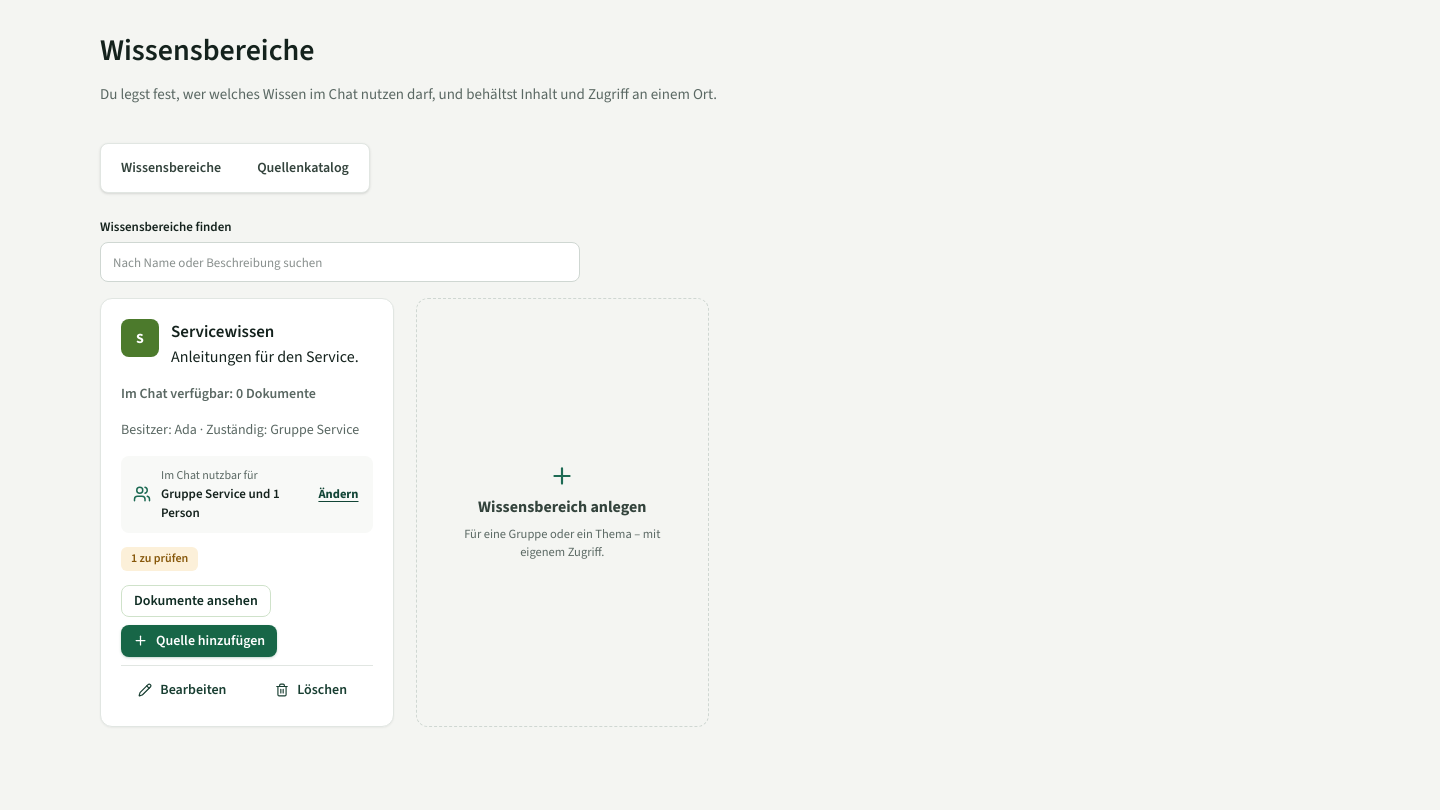
Test: renames a knowledge space through the existing patch contract
Click the button with aria-label "Servicewissen umbenennen": (182, 690) [121, 674, 244, 706]
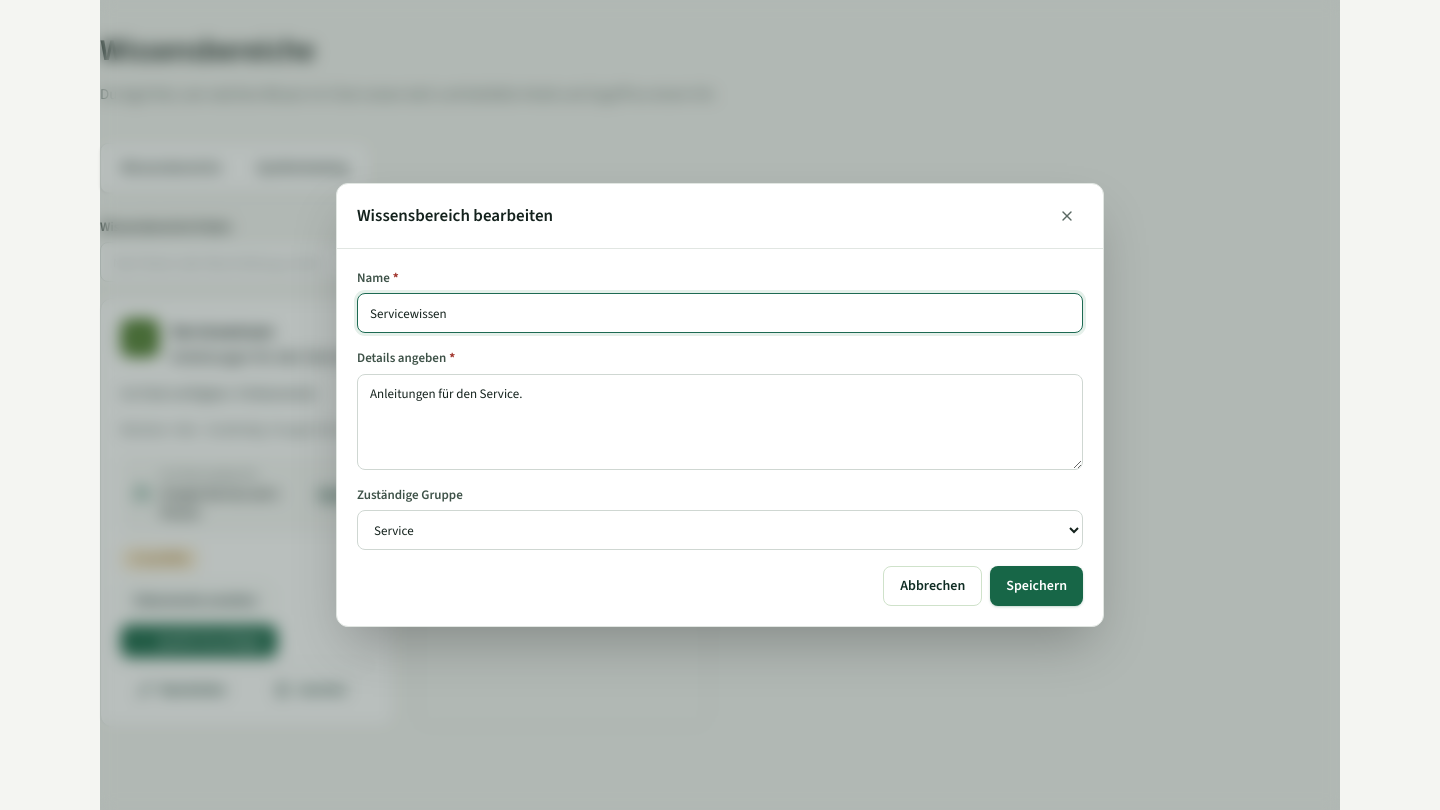
Replace the text in the field labelled "Name" with "Neuer Name": (720, 313) [357, 293, 1083, 333]
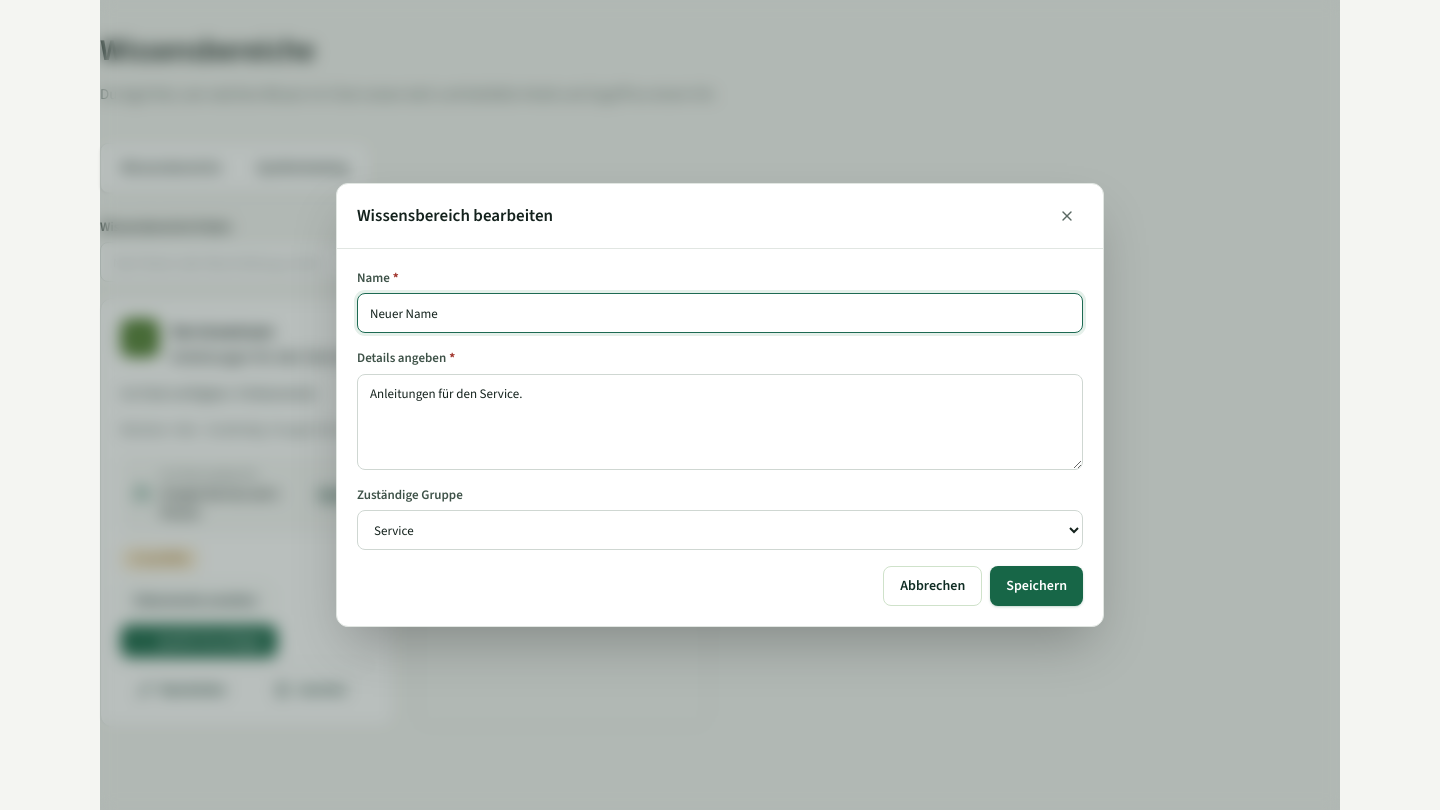
Replace the text in the text box labelled "Details angeben" with "Neue Beschreibung": (720, 422) [357, 374, 1083, 470]
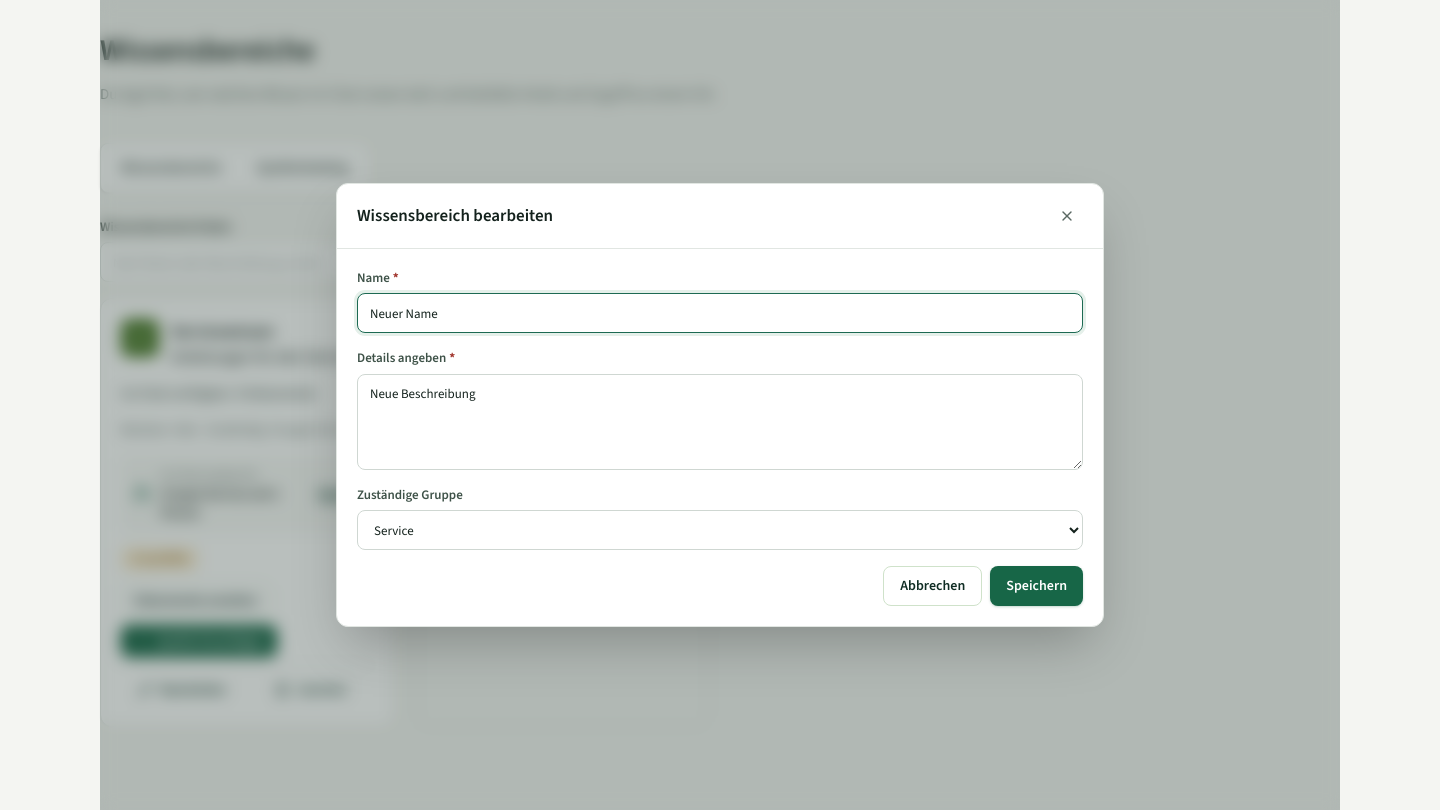
Click the button "Speichern": (1037, 586) [990, 566, 1083, 606]
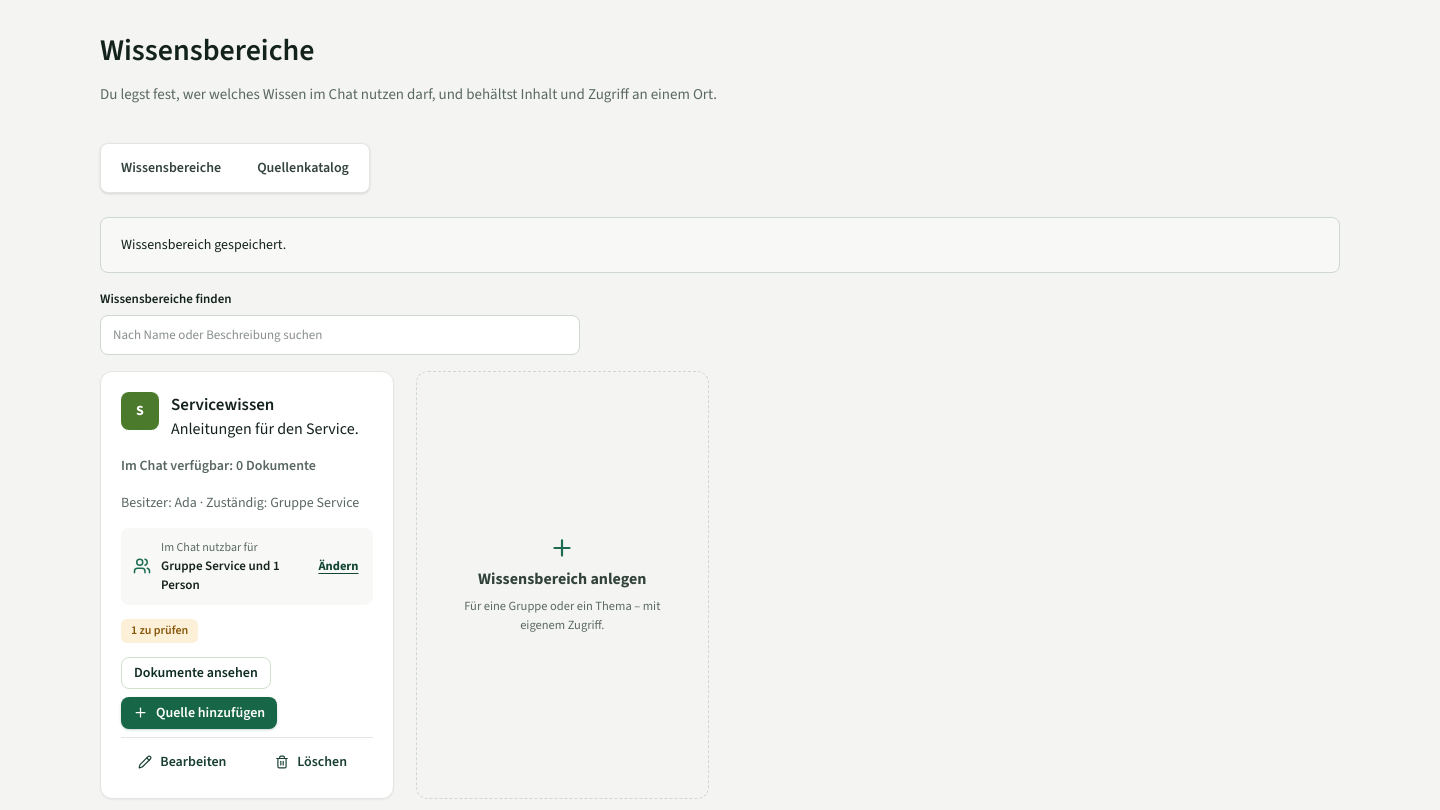
Check: the text "Wissensbereich gespeichert." is shown, box [121, 234, 286, 256]
